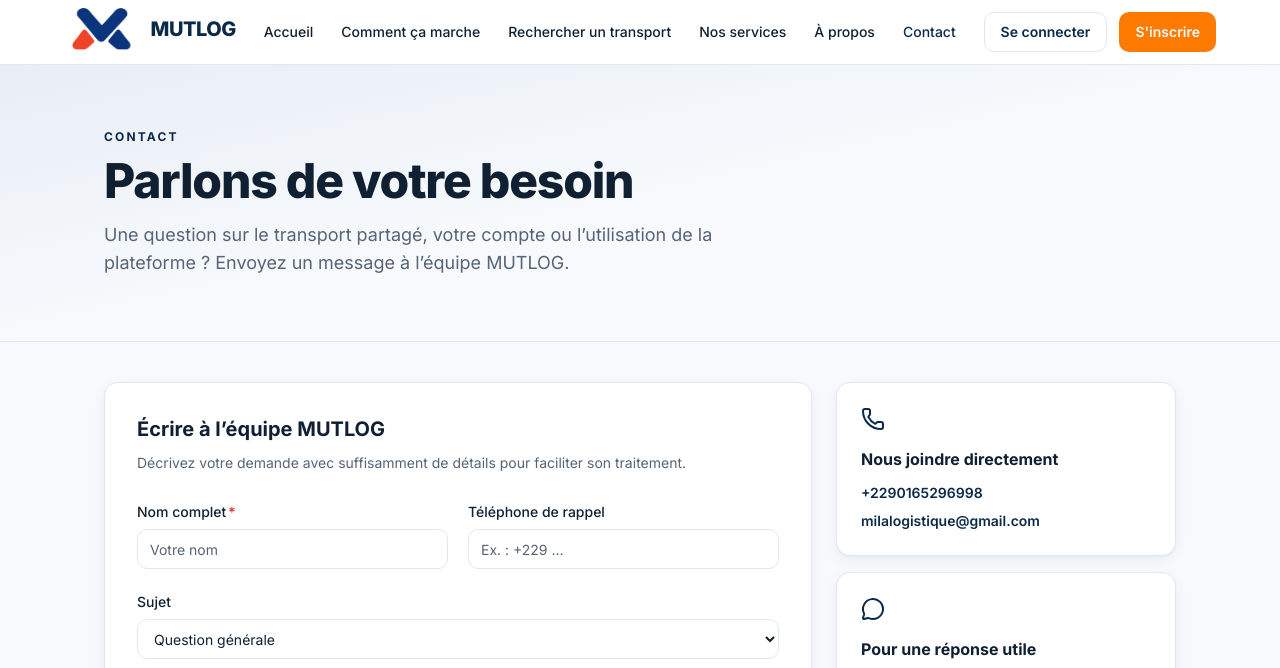
Test: contact : du visiteur à l’administrateur › le message est refusé côté formulaire s’il est trop court
The image size is (1280, 668).
Step 1. Type "Awa" into the field labelled "Nom complet*" → [292, 549], box [137,529,448,569]
(page scrolled)
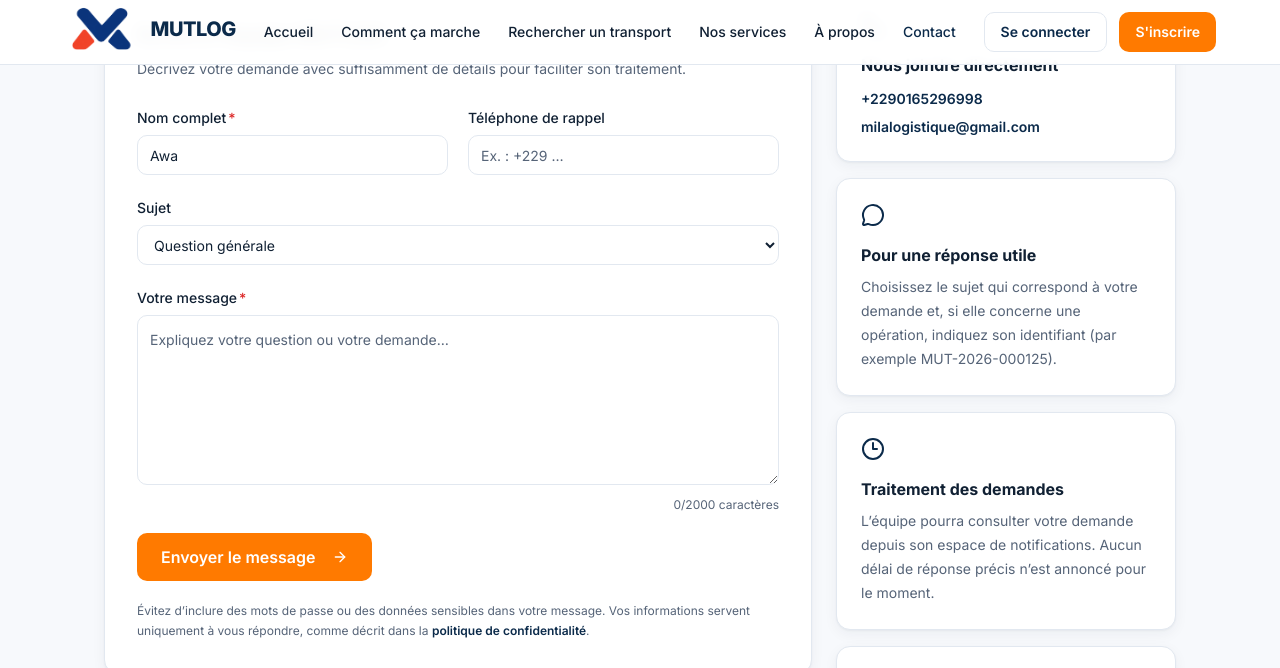
Step 2. Type "court" into the text box labelled "Votre message*" → [458, 400], box [137,315,779,485]
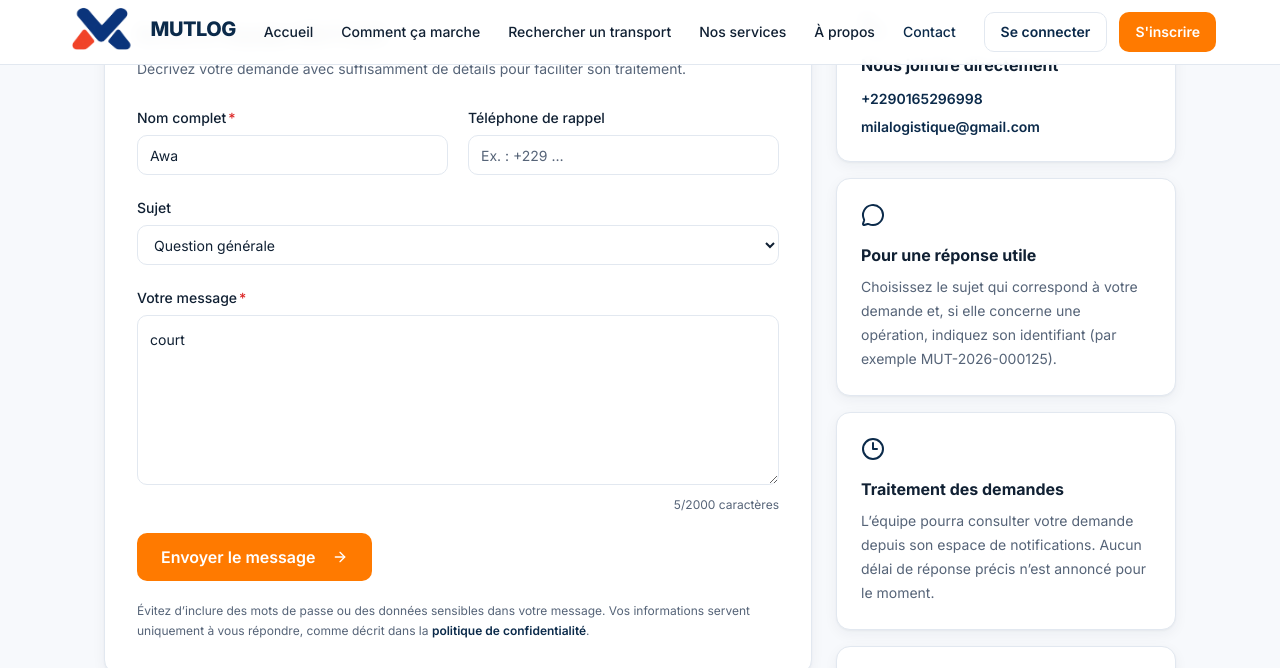
Step 3. Click the button "Envoyer le message" → [254, 557], box [137,533,372,581]
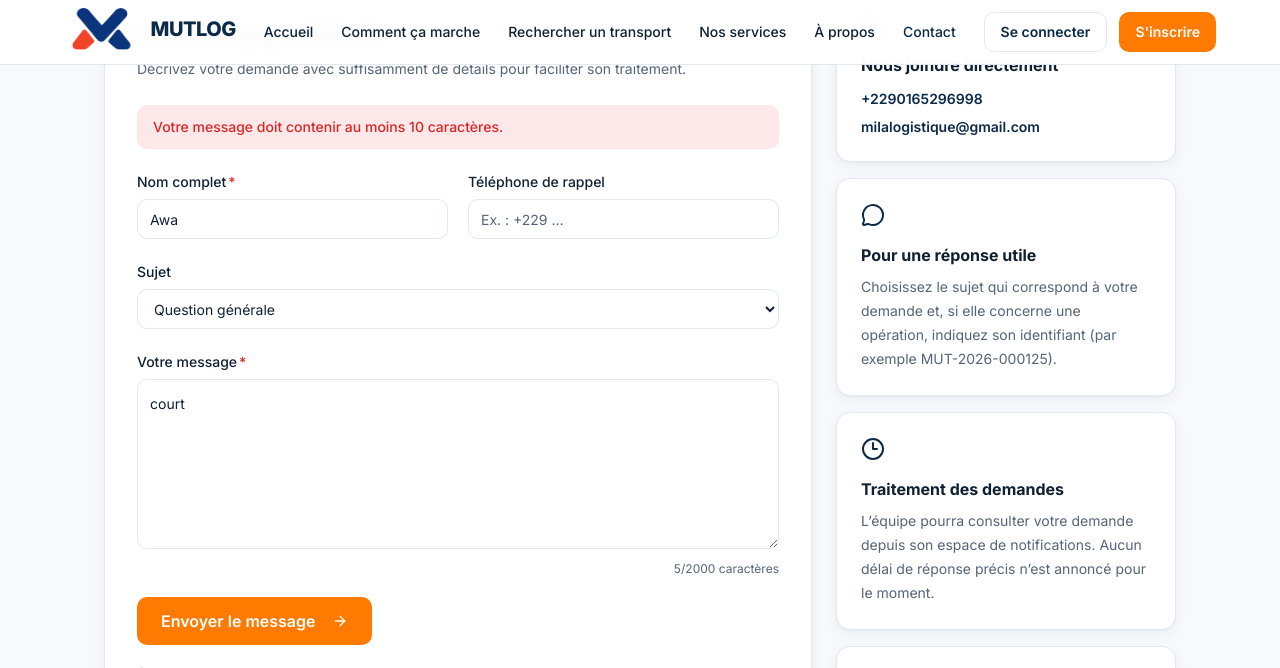
Expected: the text "Votre message doit contenir au moins 10 caractères." is shown, [137,105,779,149]
